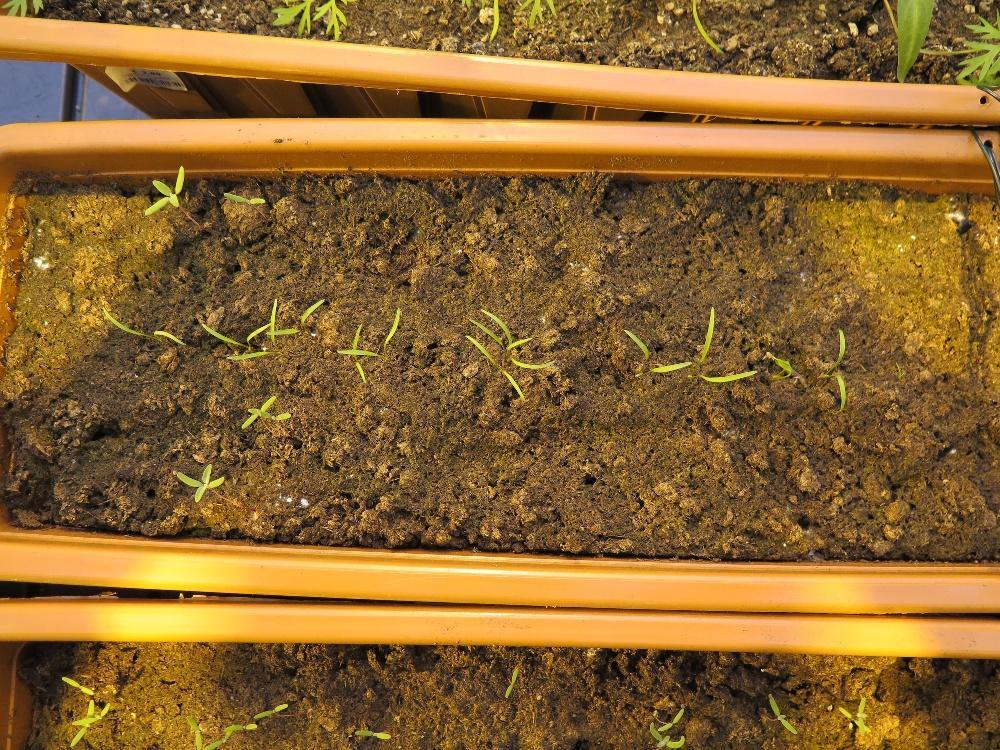crop: (694, 300, 757, 384), (99, 303, 187, 347), (620, 324, 691, 375), (829, 323, 846, 413)
weed: (142, 163, 184, 217), (173, 459, 223, 503), (766, 692, 797, 736), (59, 674, 94, 695), (252, 701, 288, 718), (222, 190, 265, 204), (353, 726, 391, 740), (503, 666, 518, 699)
